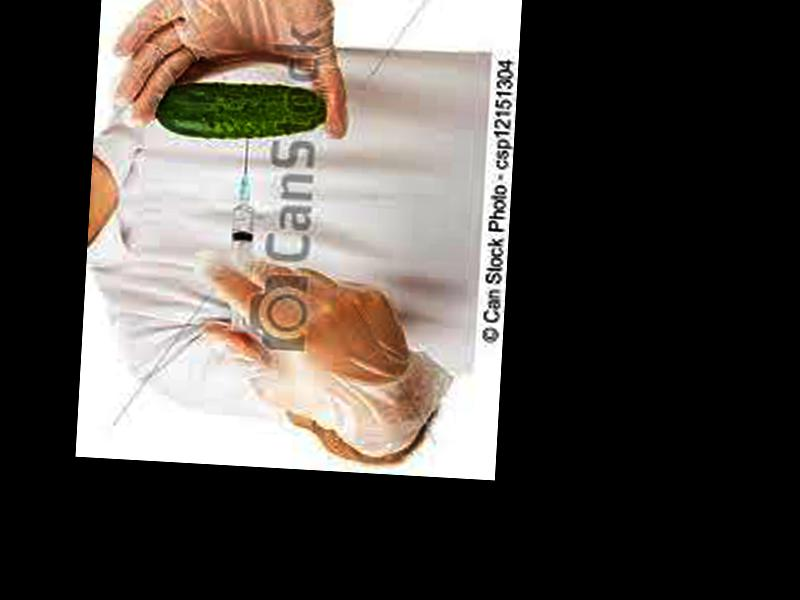Cucumber: (150, 76, 326, 142)
